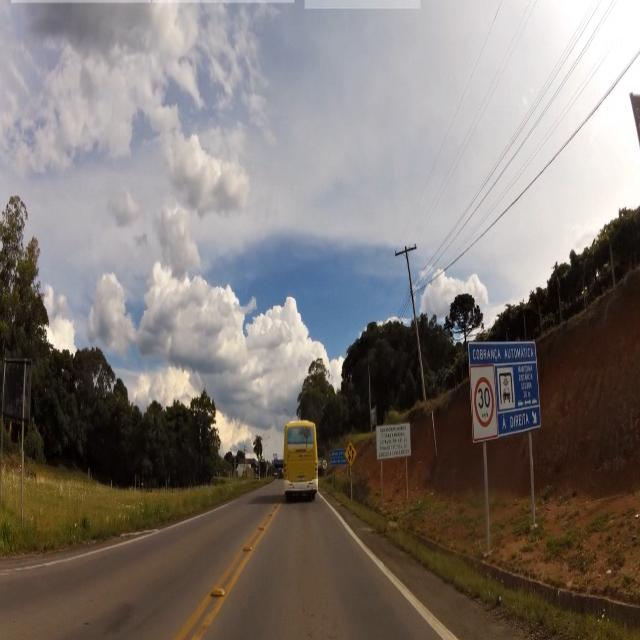R-19: (472, 368, 496, 441)
